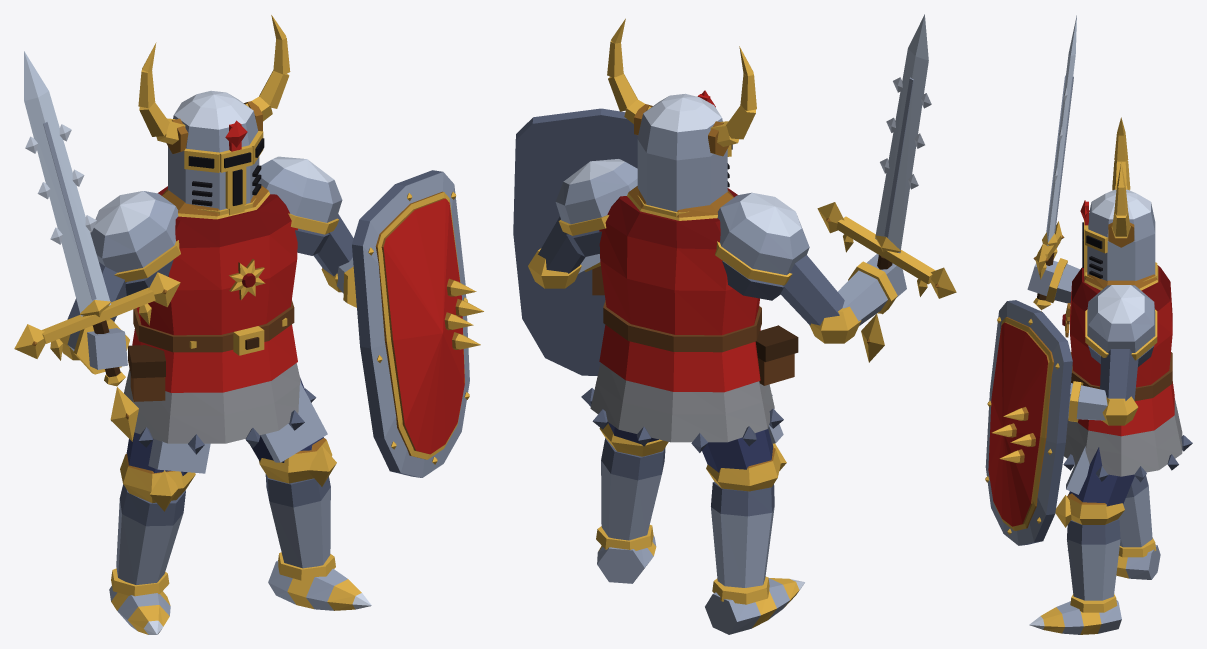
The model's file is knight.obj.
3 views of the same model, side by side, from view 1: azimuth 30°, elevation 25°; view 2: azimuth 150°, elevation 25°; view 3: azimuth 270°, elevation 25° (orthographic). The views are drawn at different scales.
Parts seen in each view (by area): view 1: Knight; view 2: Knight; view 3: Knight.
Boxes of the visible parts, left/top/right/bottom form: Knight: left=14, top=15, right=483, bottom=634; Knight: left=513, top=14, right=956, bottom=634; Knight: left=985, top=15, right=1192, bottom=634.
Size of the model in its own units: 1.8 by 2.41 by 0.905.
1 material, 1 textured.
